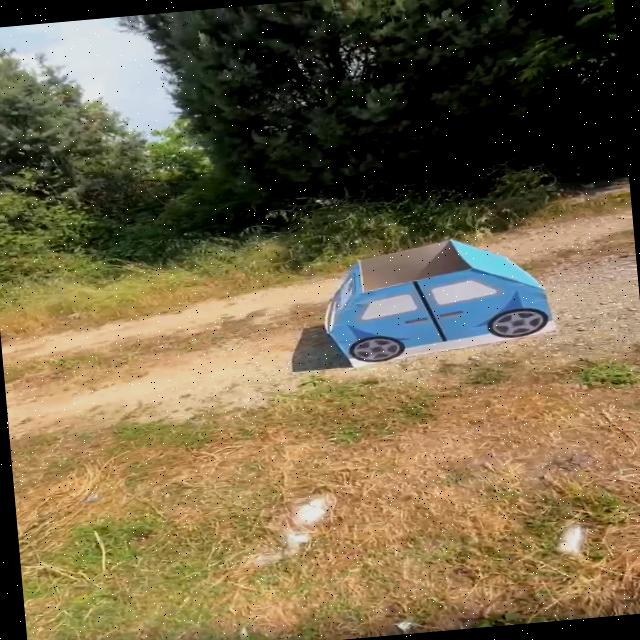blue_car: (297, 232, 569, 373)
